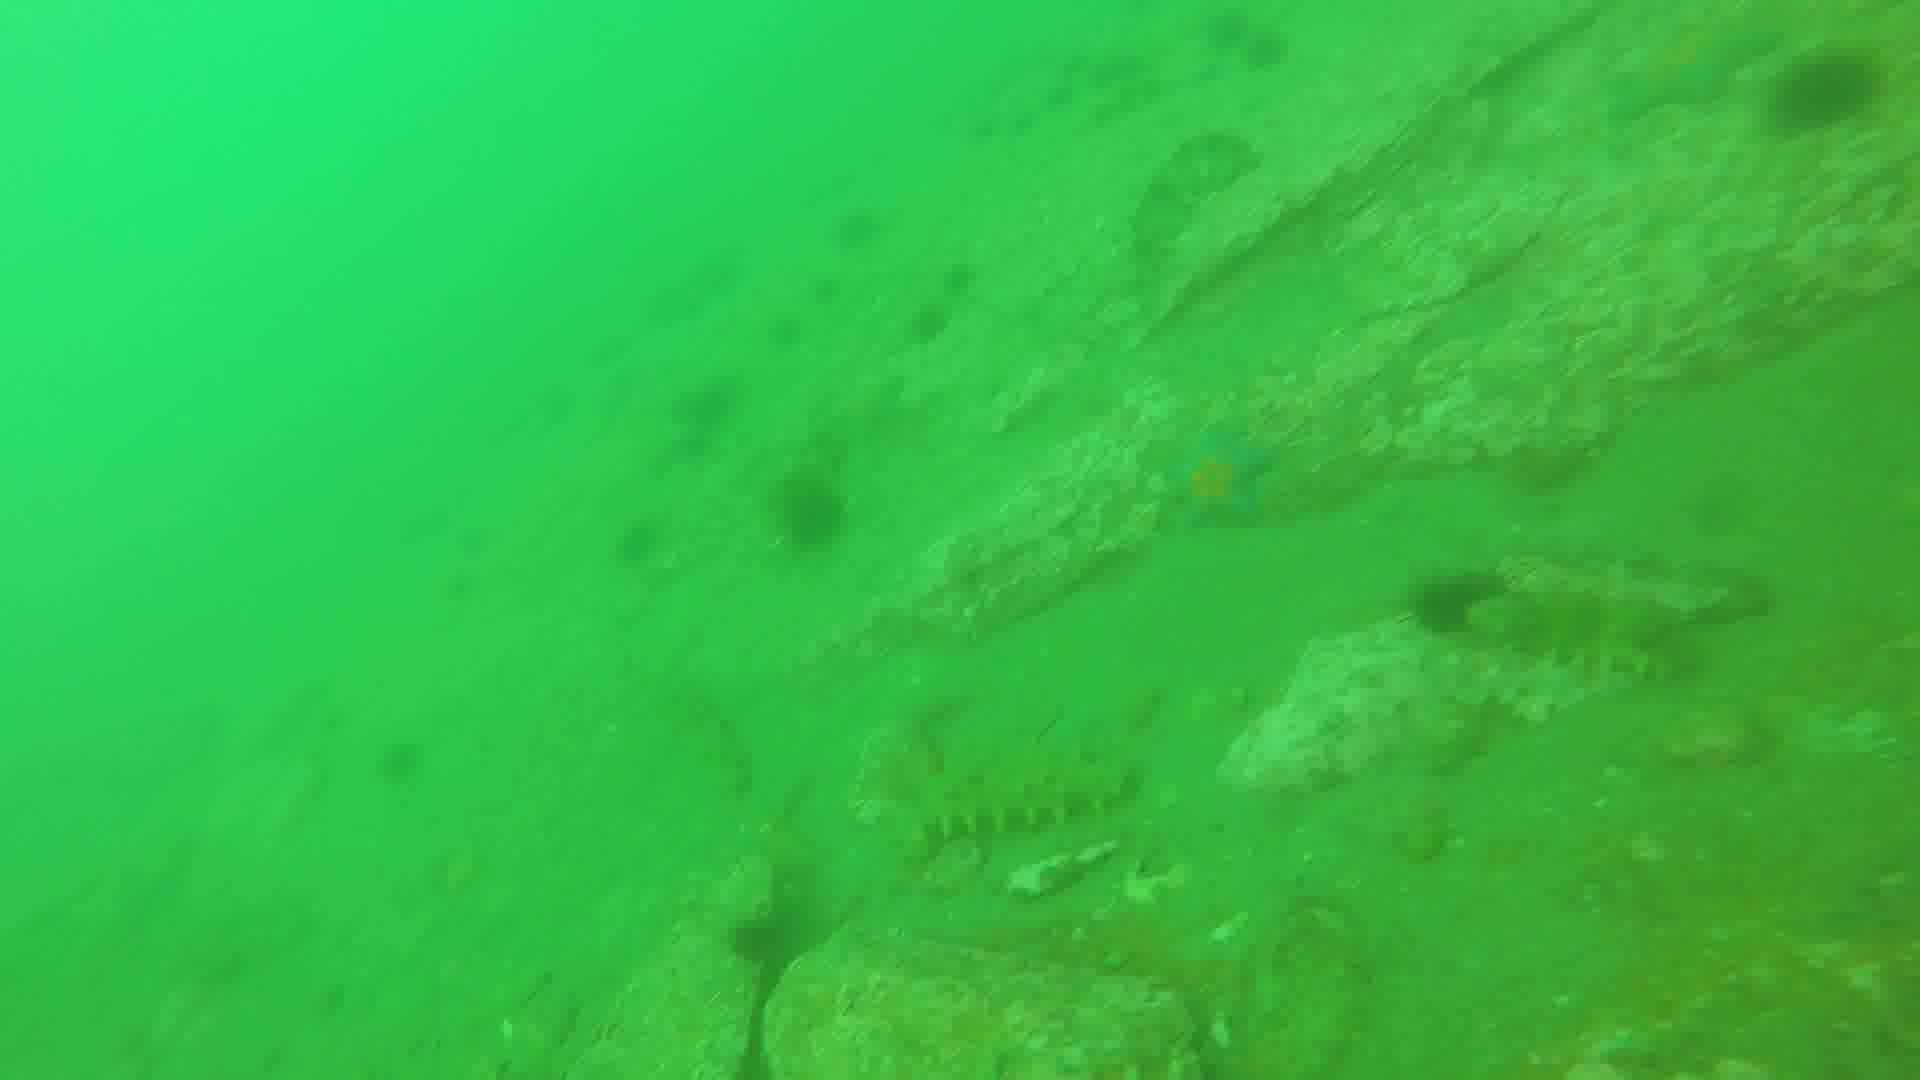echinus: (1778, 47, 1865, 153), (1411, 564, 1495, 636), (785, 485, 851, 550), (804, 266, 849, 313), (907, 309, 957, 348), (835, 211, 884, 251), (620, 520, 659, 568), (766, 313, 816, 349), (380, 742, 418, 782)
holothurian: (1472, 585, 1716, 682), (905, 754, 1133, 855)
starfish: (1614, 15, 1785, 119), (1174, 425, 1274, 534)
